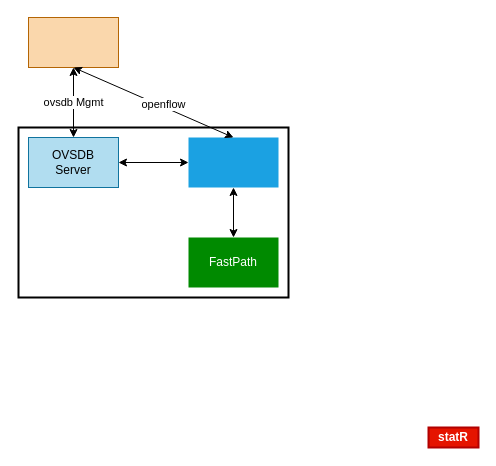
Some shapes in this 496 by 466 pixel diagram are drawn without their labels. The centre of each missing label's shape, as x and y in pixels:
Control + Management: the point at 73,42
ovs-vswitchd: the point at 233,162
